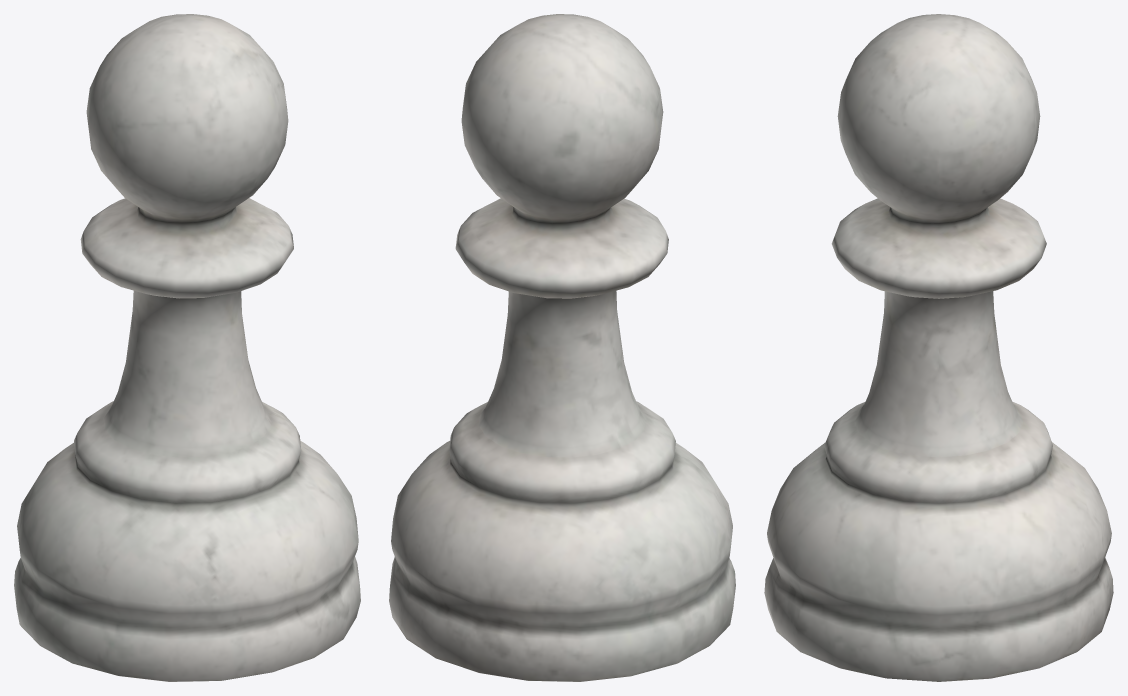
Rendered from pawn.gltf.
3 views of the same model, side by side, from view 1: azimuth 30°, elevation 25°; view 2: azimuth 150°, elevation 25°; view 3: azimuth 270°, elevation 25° (orthographic).
Visible parts, largest first — view 1: pawn; view 2: pawn; view 3: pawn.
Boxes of the visible parts, bbox=[...] form: pawn: bbox=[14, 14, 360, 681]; pawn: bbox=[389, 14, 735, 681]; pawn: bbox=[764, 14, 1113, 681].
Size of the model in its own units: 0.0289 by 0.0537 by 0.0289.
1 material, 1 textured.
